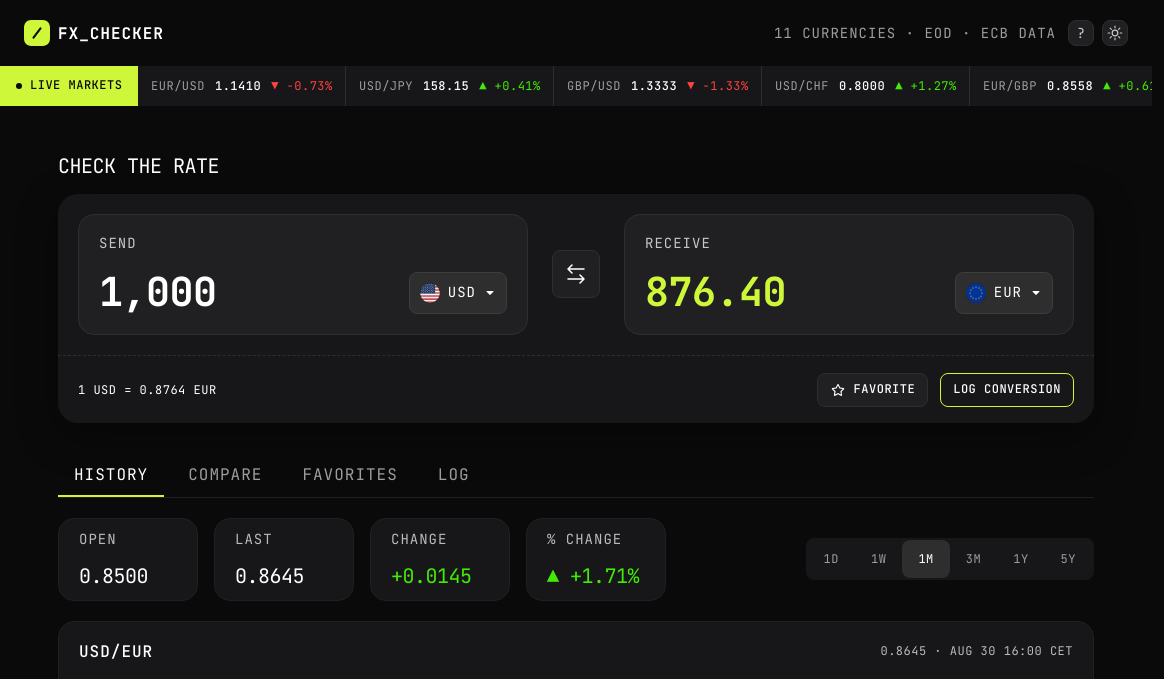
Converter (US1) › swaps currencies keeping the amount
Expected: the text "1 USD = 0.8764 EUR" is shown, 78,383 -> 217,397
Click the button named "Swap currencies". click: [576, 274]
box: 552,250 -> 600,298
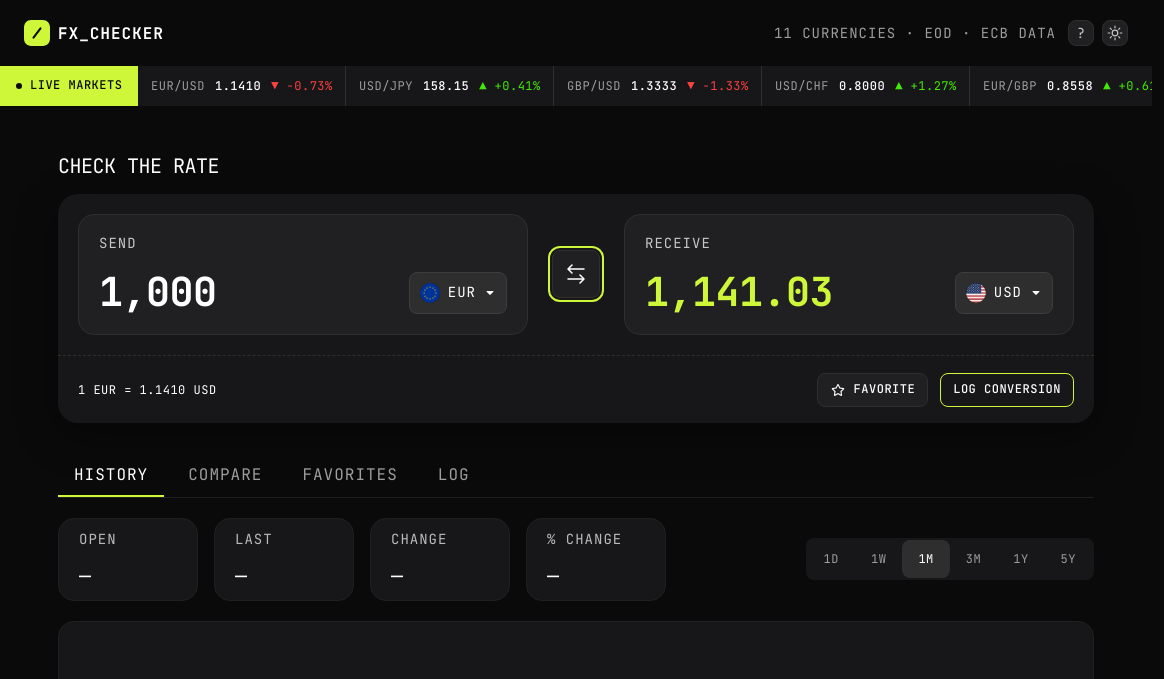
Expected: the field named "Amount to send" holds "1,000", 99,272 -> 397,314
Now the text "1 EUR = 1.1410 USD" is shown, box 78,383 -> 217,397
Now the text with test id "received-amount" reads "1,141.03", box 645,265 -> 833,318
